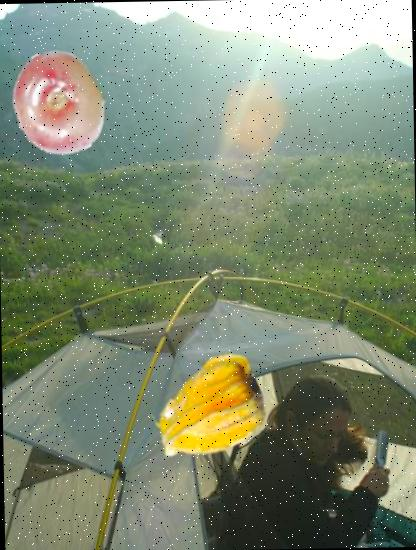Cherry: (2, 50, 111, 158)
Physalis: (146, 350, 266, 469)
